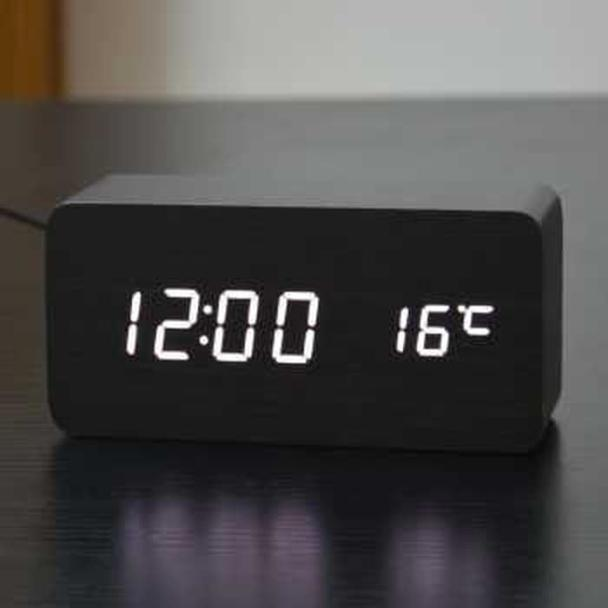Jam: (43, 197, 544, 452)
